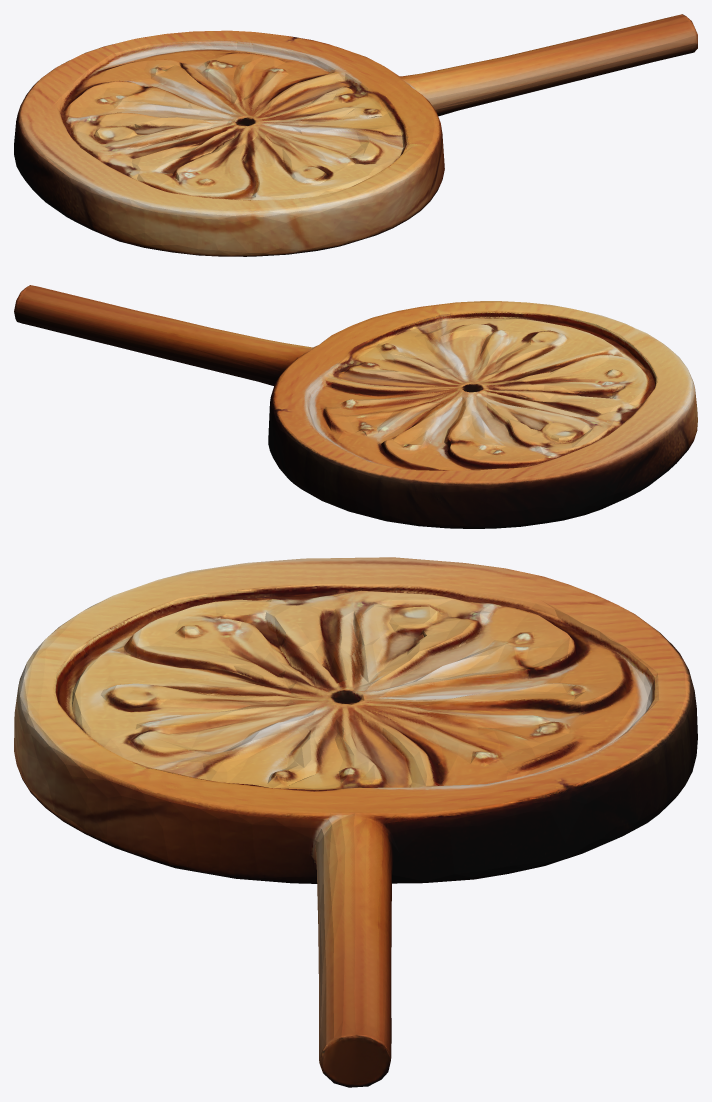
File: wooden-cocktail-stirrer-3d.jpeg.glb
The picture shows the model from 3 angles, top to bottom: view 1: azimuth 30°, elevation 25°; view 2: azimuth 150°, elevation 25°; view 3: azimuth 270°, elevation 25°; orthographic projection. The views are drawn at different scales.
Parts seen in each view (by area): view 1: world; view 2: world; view 3: world.
Part boxes in pixels (x1,y1,x2,y2): world: (14, 14, 697, 256); world: (14, 285, 697, 528); world: (14, 557, 697, 1087).
Bounding box in the file's own units: 1 × 0.0703 × 0.6126.
1 material, 1 textured.
